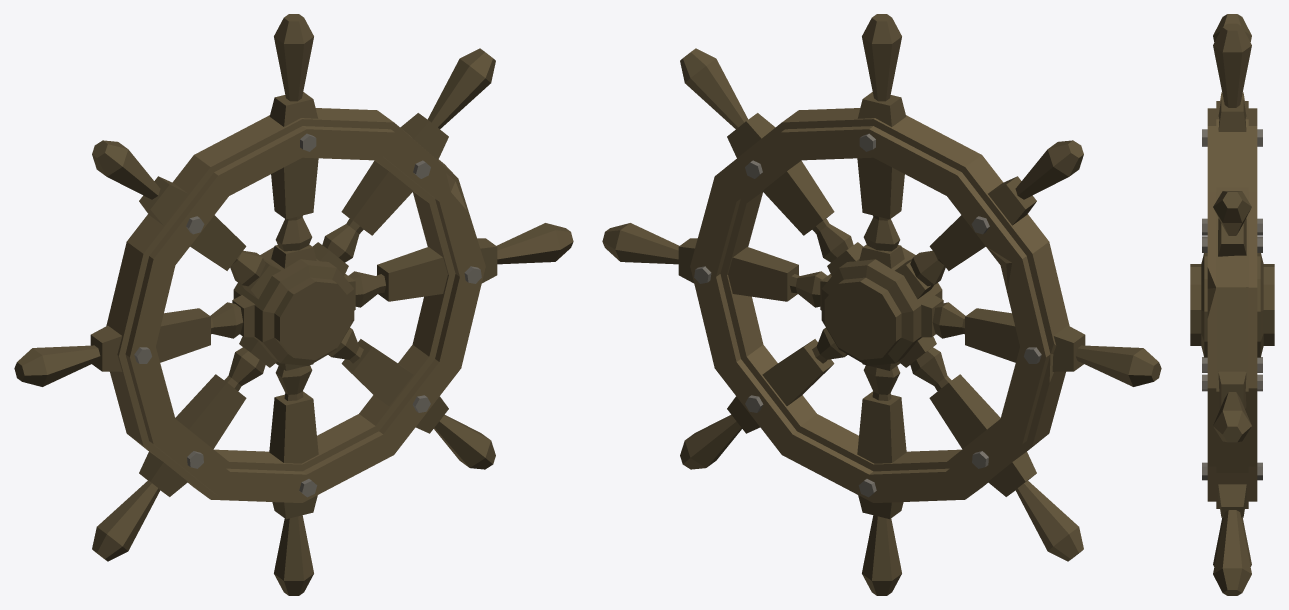
File: MediumShip_1_ShipWheel.fbx
3 renders of one model, left to right at view 1: azimuth 30°, elevation 25°; view 2: azimuth 150°, elevation 25°; view 3: azimuth 270°, elevation 25°, orthographic. The views are drawn at different scales.
Visible parts, largest first — view 1: MediumShip_1_ShipWheel; view 2: MediumShip_1_ShipWheel; view 3: MediumShip_1_ShipWheel.
Boxes of the visible parts, x1,y1,x2,y2 form: MediumShip_1_ShipWheel: [14, 14, 573, 595]; MediumShip_1_ShipWheel: [602, 14, 1161, 595]; MediumShip_1_ShipWheel: [1190, 14, 1274, 595].
Size of the model in its own units: 158 by 158 by 21.67.
